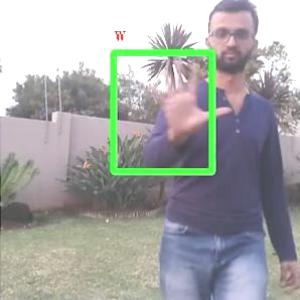follow_hand: (140, 50, 232, 142)
